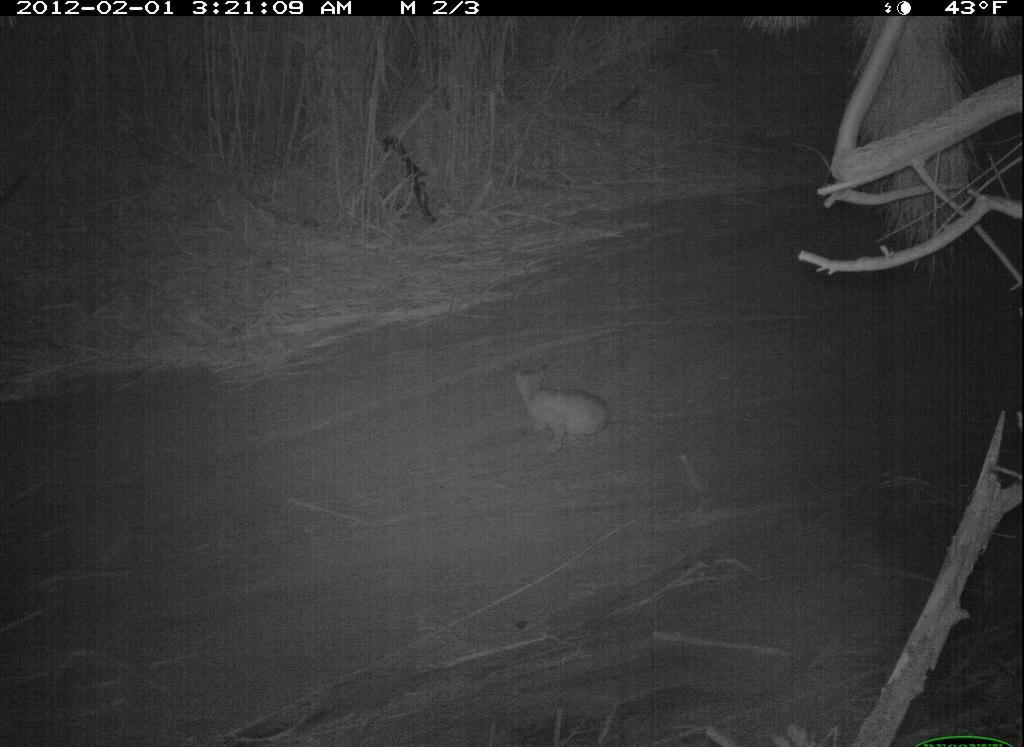bobcat: (506, 347, 623, 457)
